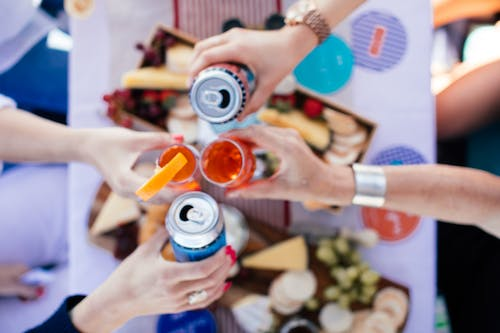alcohol: (165, 191, 227, 263), (188, 61, 255, 125), (198, 138, 257, 188), (155, 142, 200, 186)
